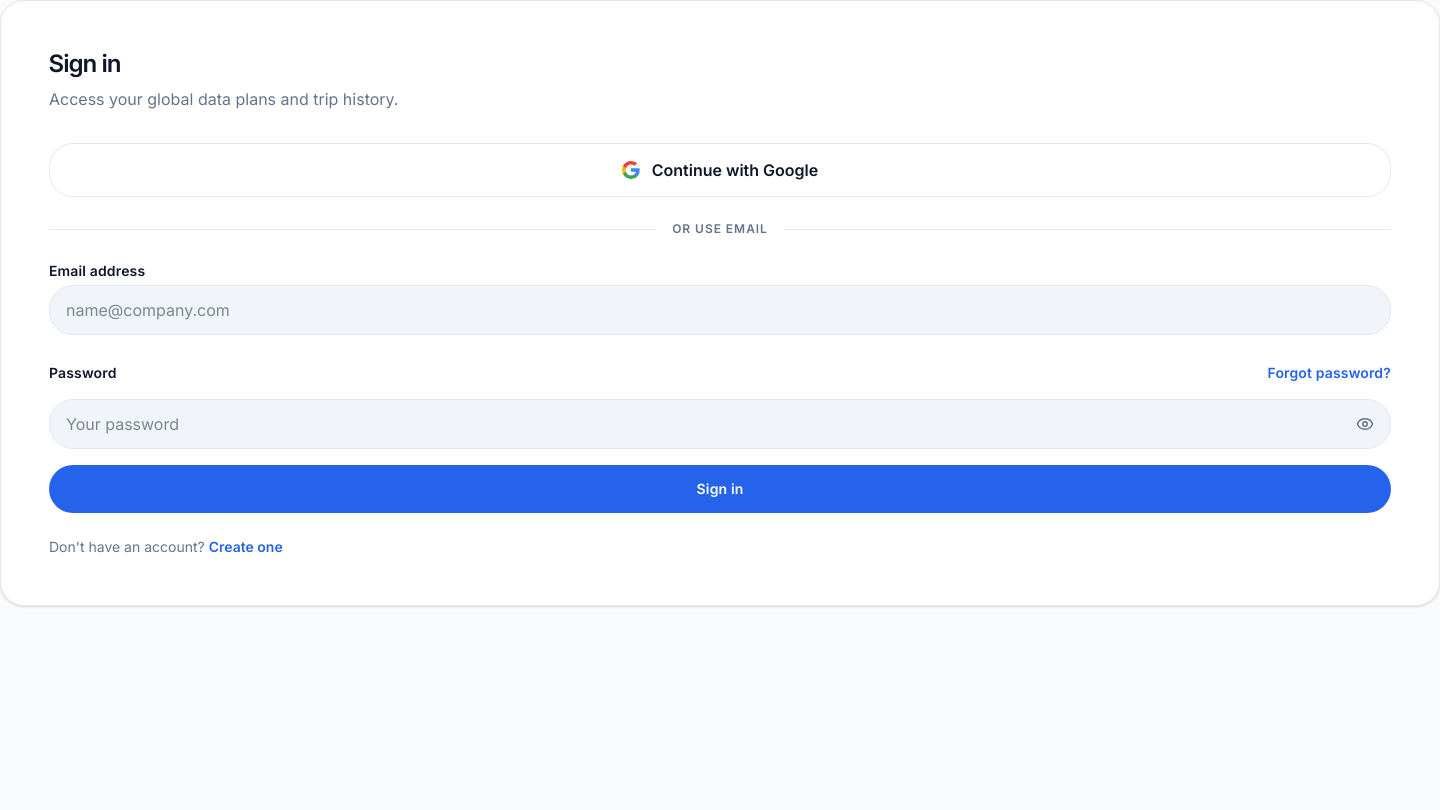
Test: when the server refuses › explains a rate limit rather than looking broken
Type "traveller@example.com" into the field named "email address" at (720, 310), box 49,285 -> 1391,335
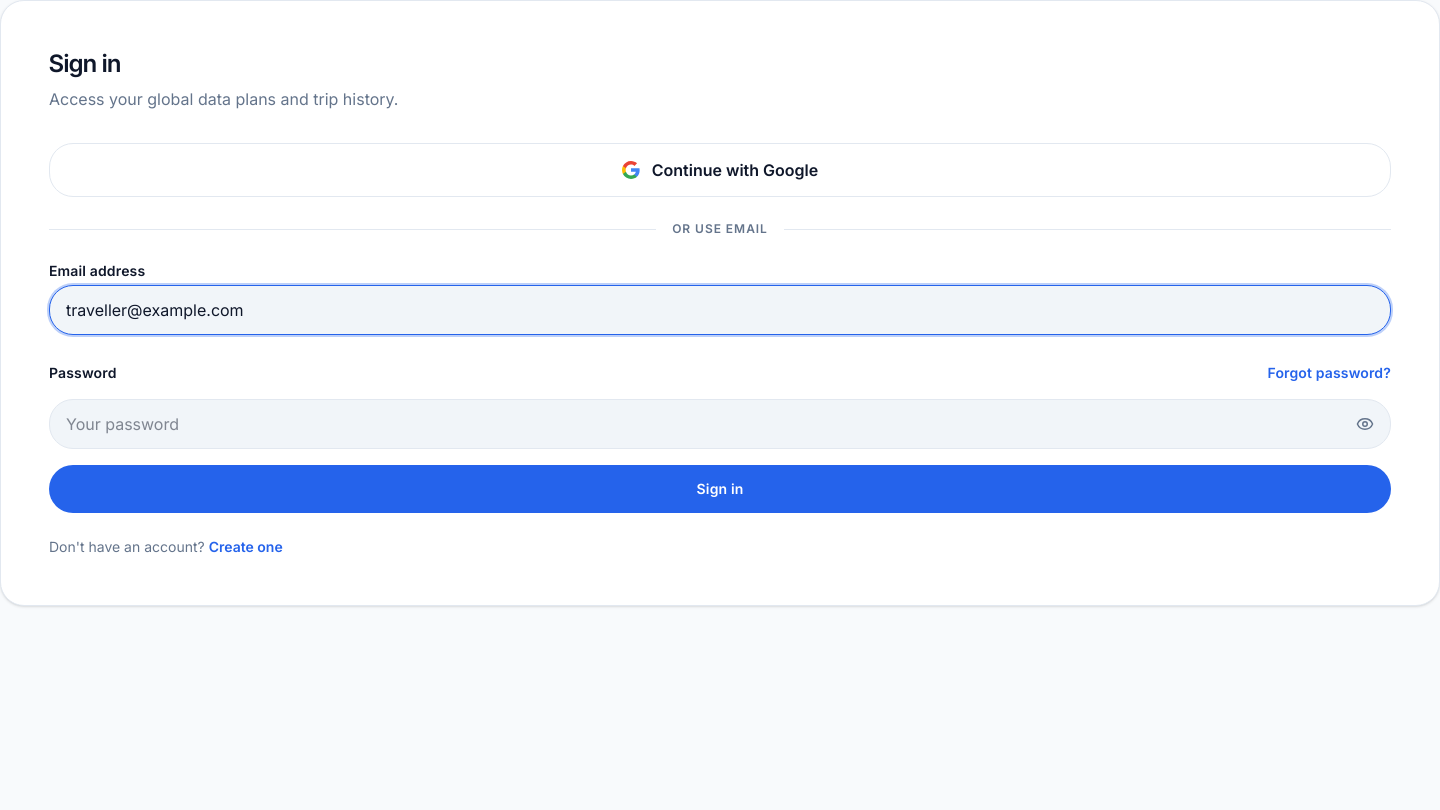
Type "correct-horse-battery" into the password field labelled "Your password" at (720, 424), box 49,399 -> 1391,449
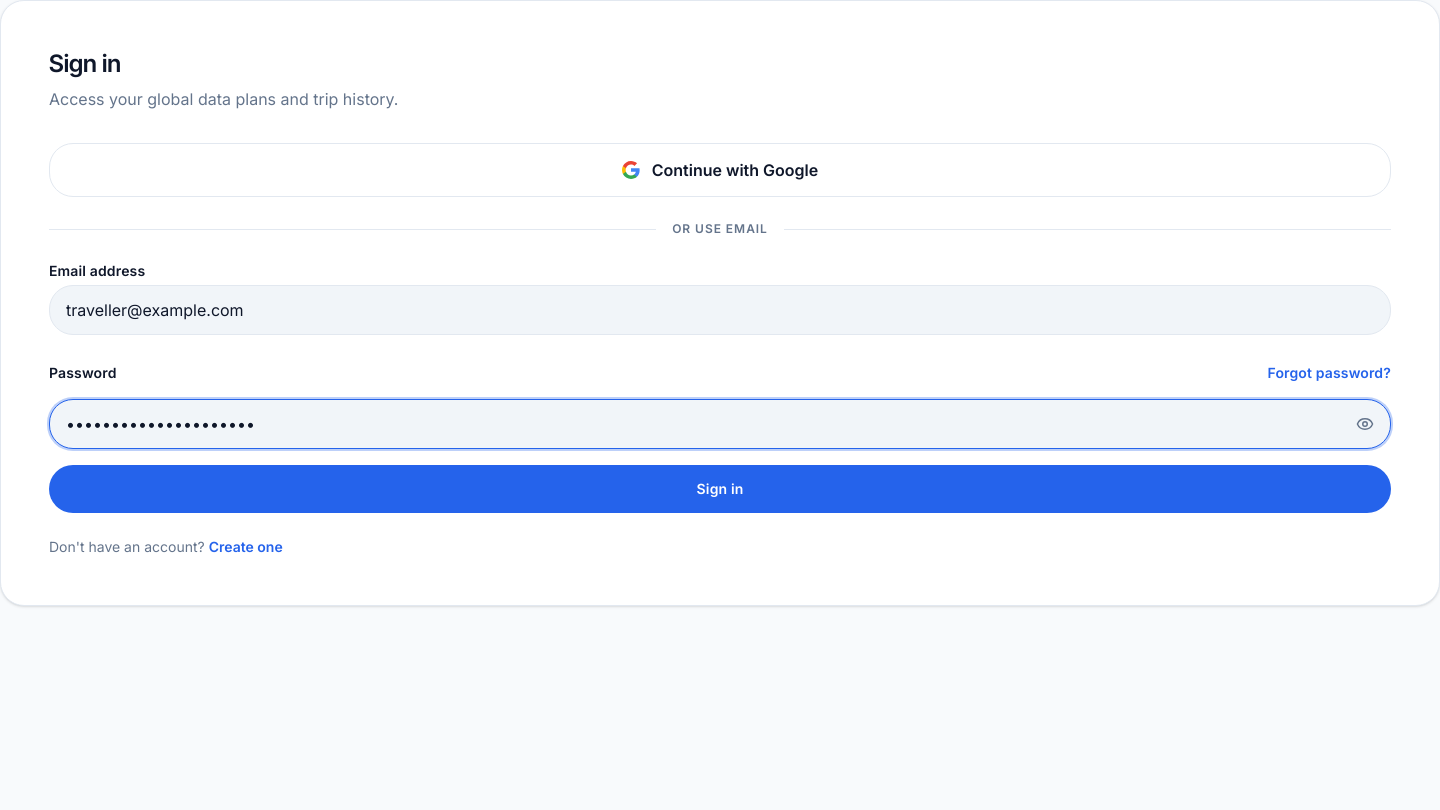
Click the 2nd button at (720, 489), box 49,465 -> 1391,513
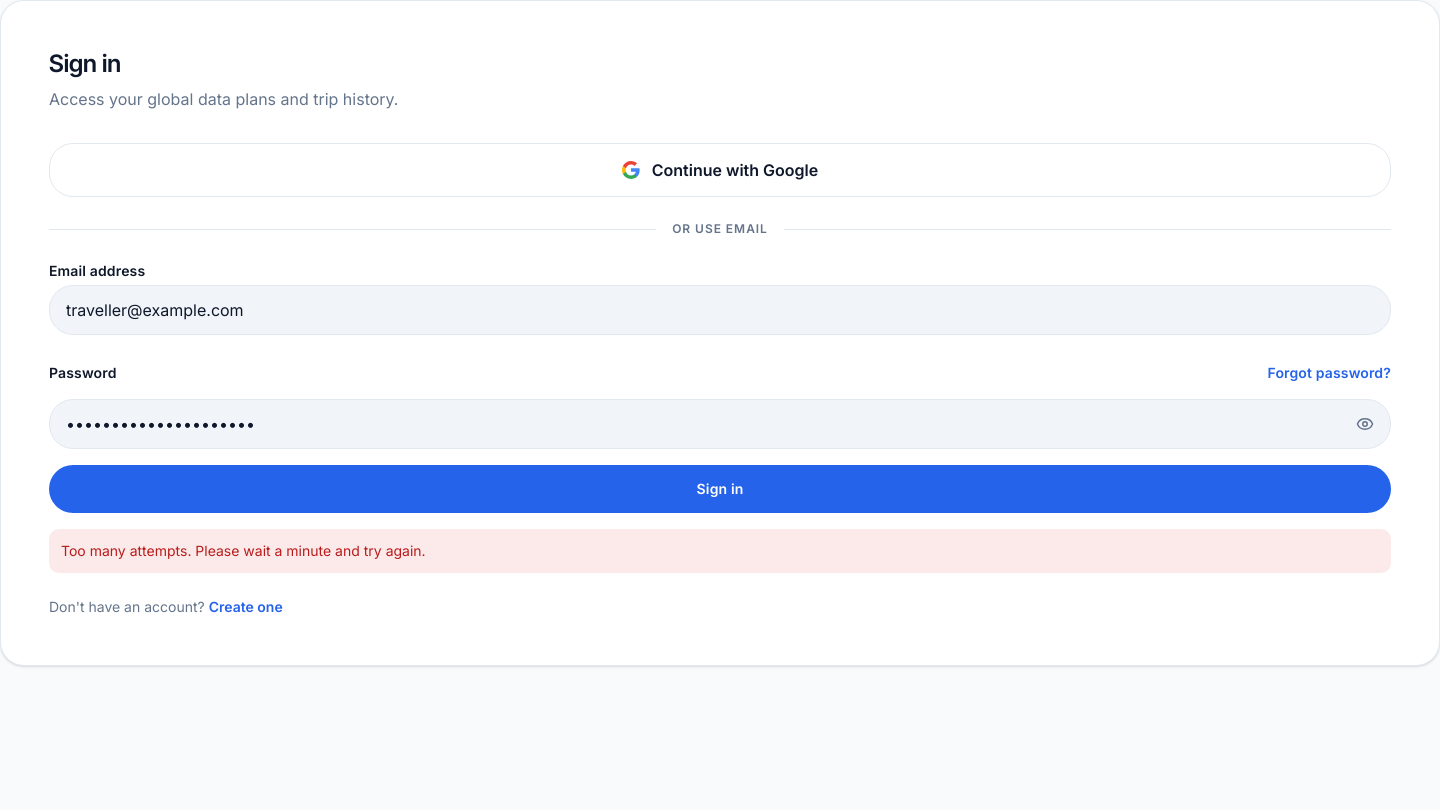
Expected: the text "too many attempts" is shown, 61,542 -> 426,559
